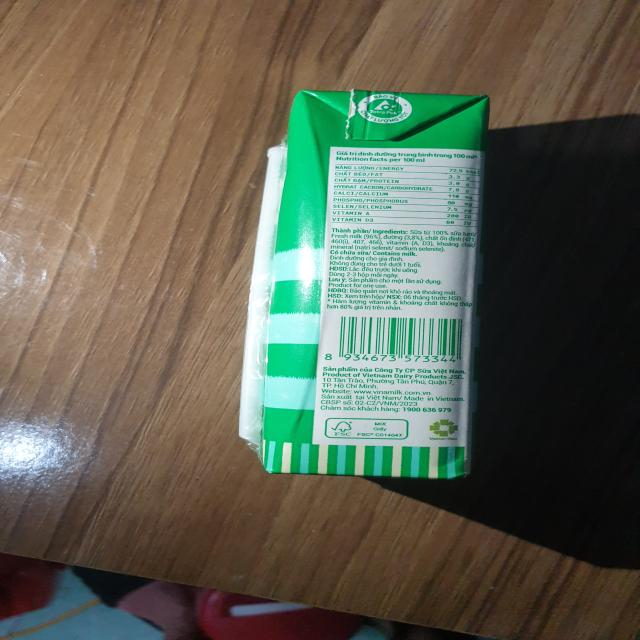Vina: (231, 82, 493, 487)
